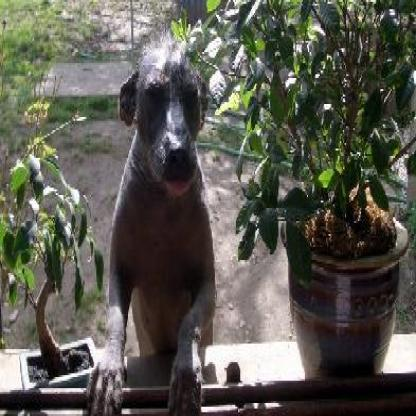Mexican_hairless: (86, 20, 219, 407)
